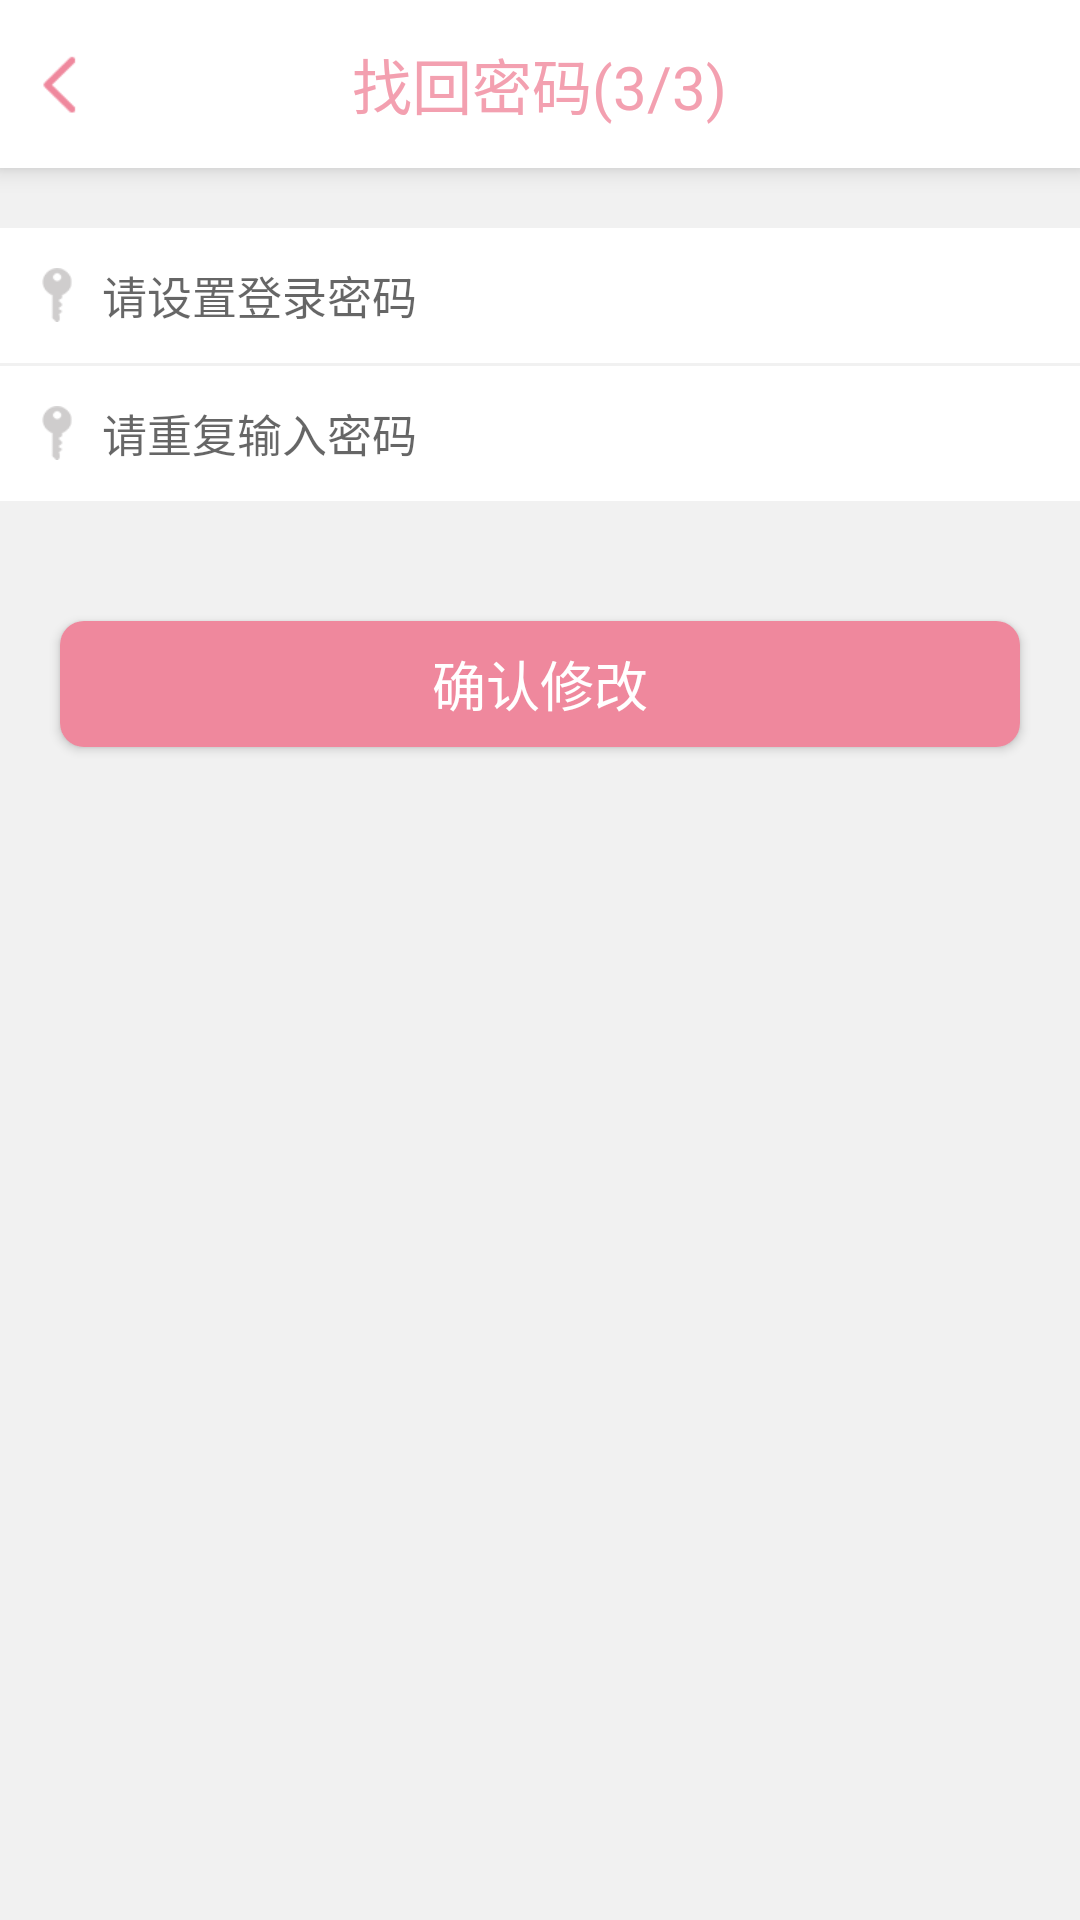

Icon bounding boxes for this 1080x1920 phone screenshot, format {"x1": x1, "y1": y1, "x2": x2, "y2": y2}:
yaoshi: {"x1": 43, "y1": 268, "x2": 71, "y2": 322}, {"x1": 43, "y1": 406, "x2": 71, "y2": 460}
